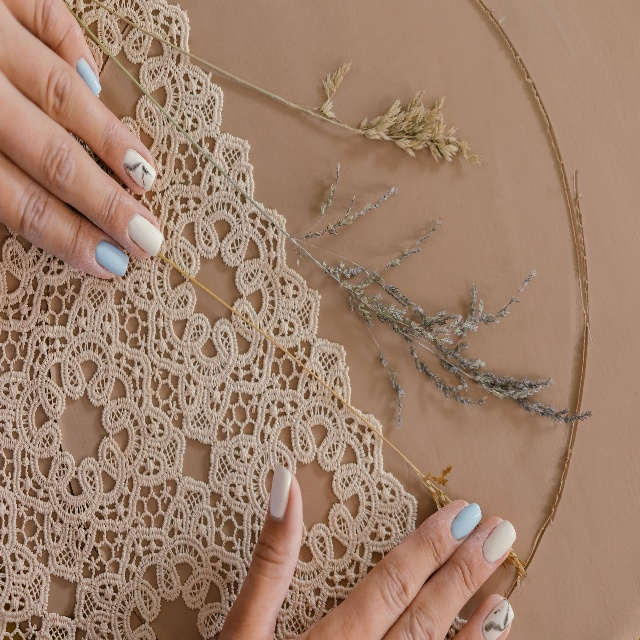Sin_guantes: (216, 428, 519, 640), (0, 0, 168, 294)
